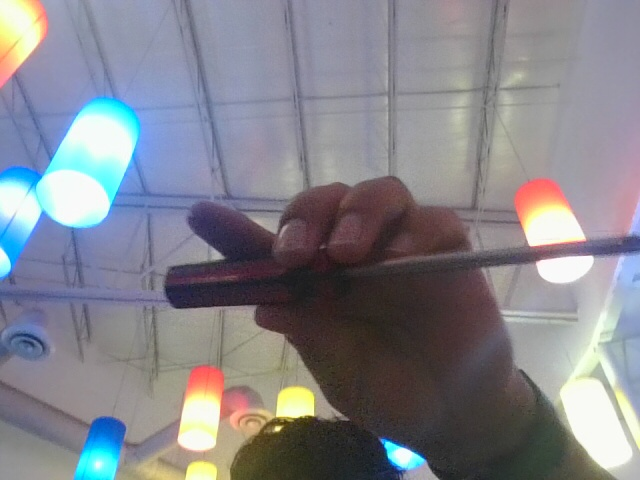destornillador: (157, 211, 640, 339)
